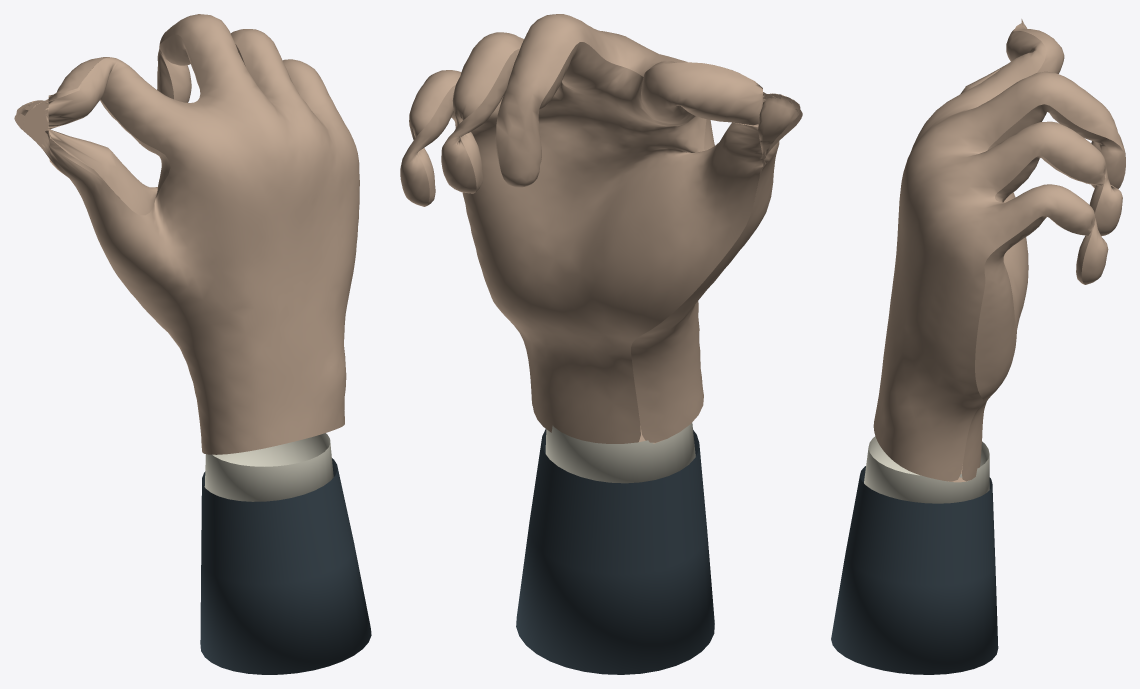
The model's file is hand-payment.glb.
3 renders of one model, left to right at view 1: azimuth 30°, elevation 25°; view 2: azimuth 150°, elevation 25°; view 3: azimuth 270°, elevation 25°, orthographic. The views are drawn at different scales.
Parts seen in each view (by area): view 1: webxr-payment-skin, short-payment-cuff, shirt-cuff; view 2: webxr-payment-skin, short-payment-cuff, shirt-cuff; view 3: webxr-payment-skin, short-payment-cuff, shirt-cuff.
Boxes of the visible parts, <box> form: webxr-payment-skin: <box>14,14,359,454</box>; short-payment-cuff: <box>200,458,371,674</box>; shirt-cuff: <box>204,433,333,501</box>; webxr-payment-skin: <box>400,14,802,443</box>; short-payment-cuff: <box>516,429,714,674</box>; shirt-cuff: <box>545,422,695,483</box>; webxr-payment-skin: <box>873,19,1125,482</box>; short-payment-cuff: <box>831,466,998,674</box>; shirt-cuff: <box>864,436,989,503</box>.
Size of the model in its own units: 0.1244 by 0.2172 by 0.1021.
